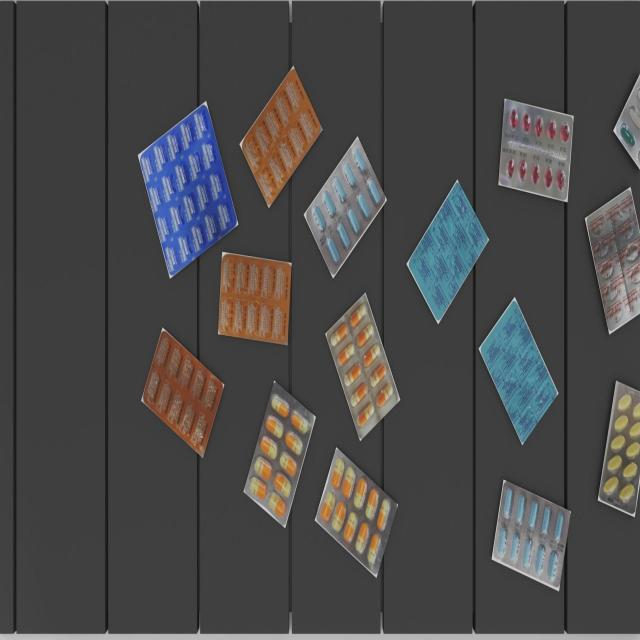blister: (138, 102, 238, 281), (407, 179, 489, 321), (481, 297, 558, 443), (240, 68, 320, 206), (305, 138, 385, 276), (315, 448, 398, 578), (244, 380, 314, 527), (143, 329, 223, 456), (326, 294, 398, 434), (493, 480, 571, 589), (585, 188, 640, 332), (499, 99, 573, 200), (218, 249, 292, 345), (597, 376, 640, 517)
